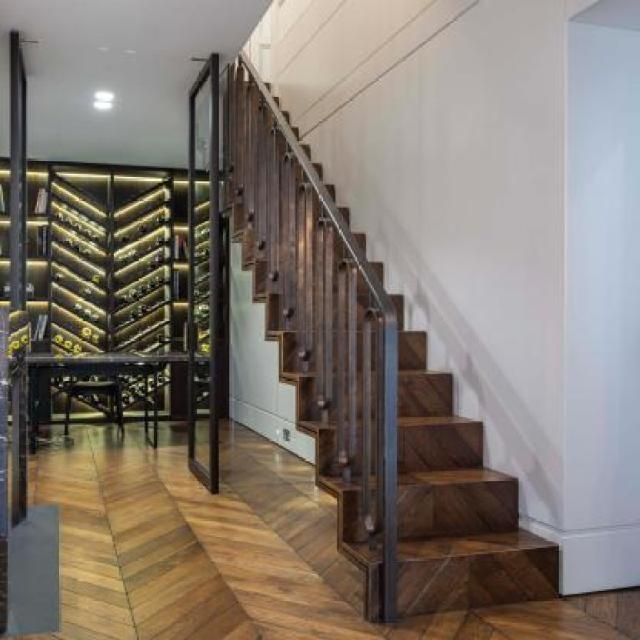stair: (202, 42, 568, 607)
